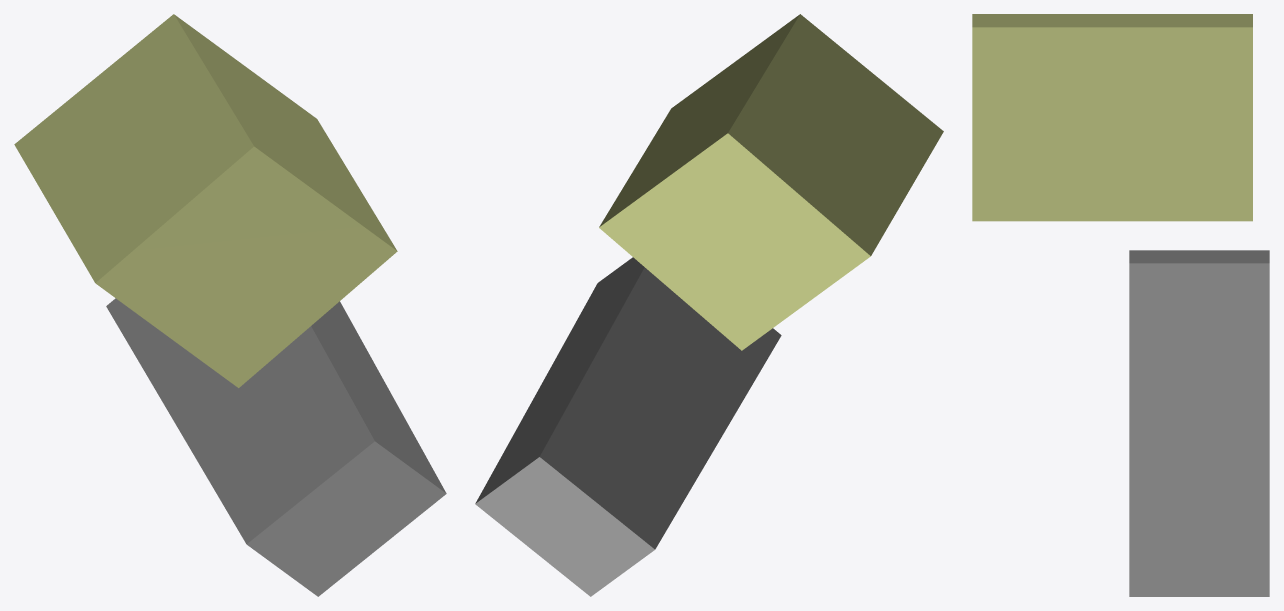
3 renders of one model, left to right at view 1: azimuth 30°, elevation 25°; view 2: azimuth 150°, elevation 25°; view 3: azimuth 270°, elevation 25°, orthographic. The views are drawn at different scales.
Visible parts, largest first — view 1: 0_1_1_3_2_2_3_1_3_0_0; view 2: 0_1_1_3_2_2_3_1_3_0_0; view 3: 0_1_1_3_2_2_3_1_3_0_0.
Boxes of the visible parts, x1,y1,x2,y2 form: 0_1_1_3_2_2_3_1_3_0_0: (14, 14, 446, 596); 0_1_1_3_2_2_3_1_3_0_0: (475, 14, 943, 596); 0_1_1_3_2_2_3_1_3_0_0: (972, 14, 1269, 596).
Size of the model in its own units: 8.91 by 12.84 by 6.35.
